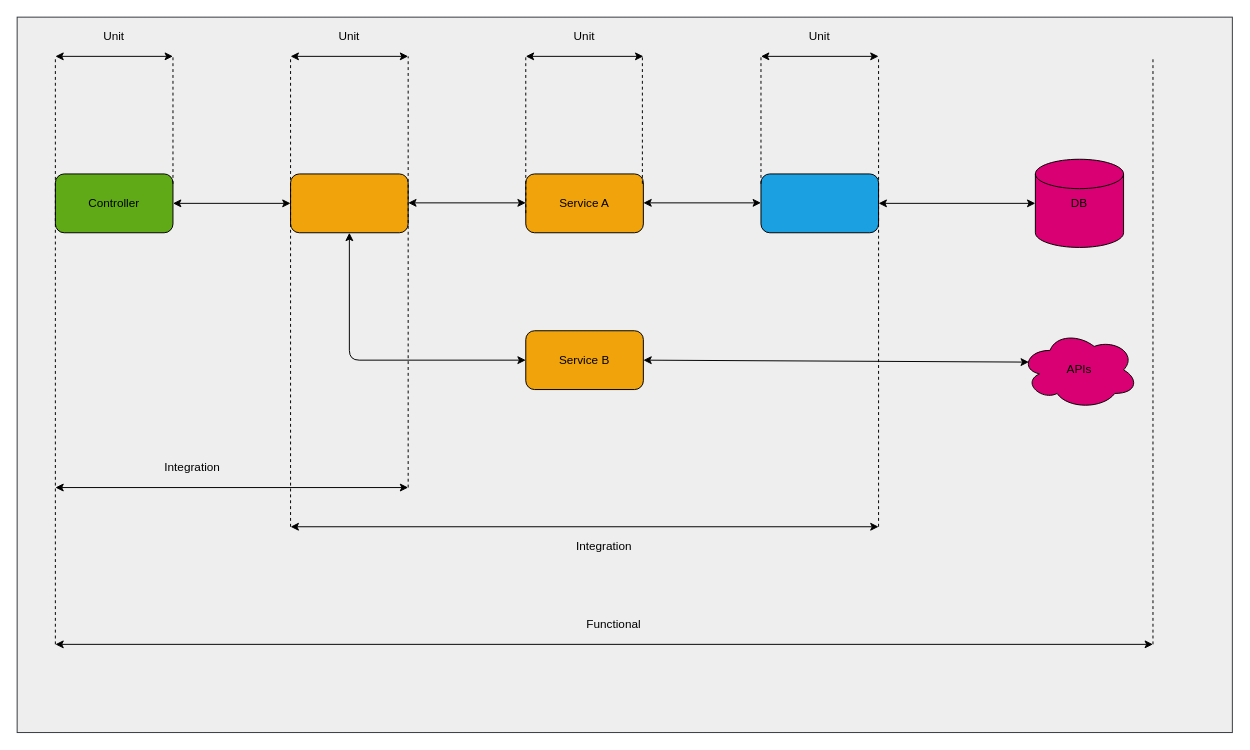
The diagram is 1250 pixels wide and 750 high, and some of its shapes have lost their labels. Here are the shapes that lost their labels. From the top down, the centre of each, then its label:
At pixel 349 203: "Service".
At pixel 819 203: "Domain".
